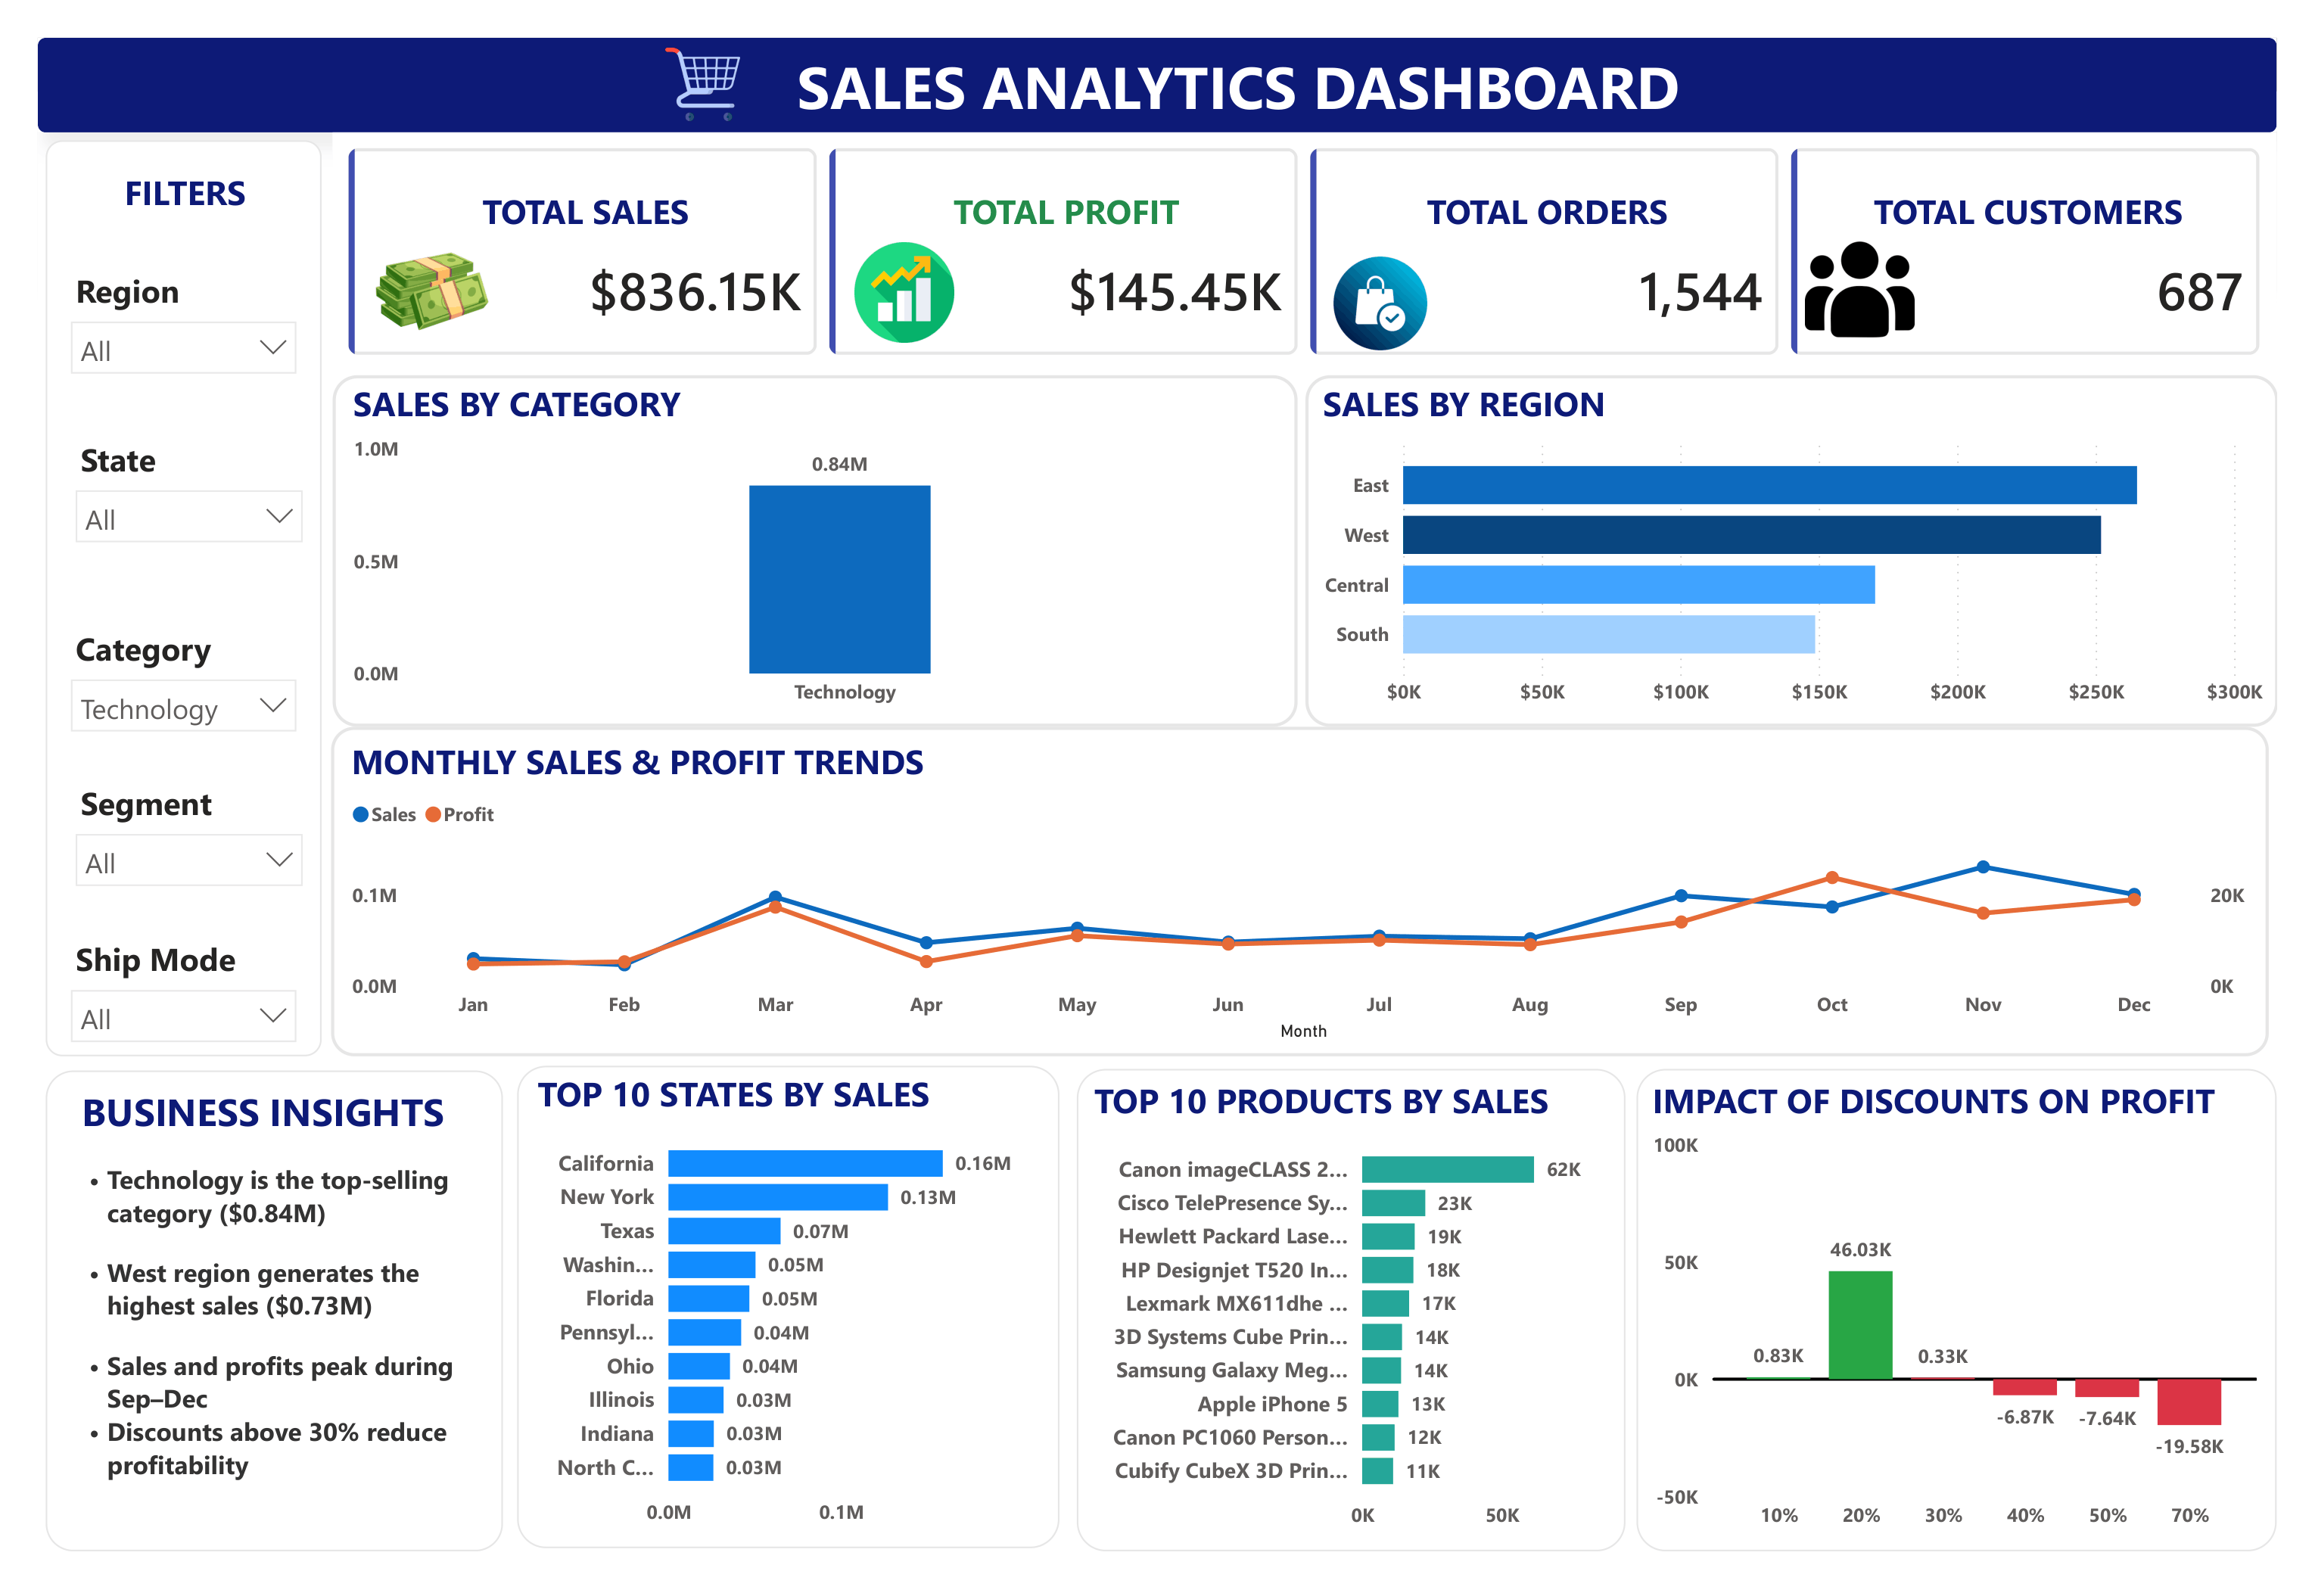

What the dashboard file says about the page in this screenshot:
{"tool":"powerbi","page":{"name":"Page 1","canvas":[1420,964],"ordinal":0},"visuals":[{"type":"shape","box":[0,0,1420.1,60.3],"z":0},{"type":"textbox","box":[447.7,0,627.1,60.3],"z":1000},{"type":"image","box":[395,6,52.8,46.7],"z":2000},{"type":"group","id":"g1","title":"Group 1","box":[186.9,60.3,1233.2,150.8],"z":3000},{"type":"shape","box":[803.5,214.1,616.6,223.1],"z":3000,"group":"g7"},{"type":"cardVisual","fields":{"Data":["sales_analytics superstore_staging.TOTAL SALES","sales_analytics superstore_staging.TOTAL PROFIT","sales_analytics superstore_staging.Orders Display","sales_analytics superstore_staging.TOTAL CUSTOMERS"]},"box":[186.9,60.3,1232.6,151.2],"z":4000,"group":"g1"},{"type":"shape","box":[186.9,214.1,612.1,223.1],"z":4000,"group":"g6"},{"type":"group","id":"g2","title":"Group 2","box":[1014.3,654,405.7,305.8],"z":4000},{"type":"image","box":[505.9,130.3,86.4,63.3],"z":5000,"group":"g1"},{"type":"group","id":"g3","title":"Group 3","box":[658.5,654,348.2,305.8],"z":5000},{"type":"image","box":[814.7,137.1,72,63.3],"z":6000,"group":"g1"},{"type":"clusteredColumnChart","title":"SALES BY CATEGORY","fields":{"Y":["Sum(sales_analytics superstore_staging.Sales)"],"Category":["sales_analytics superstore_staging.Category"]},"box":[194.4,217.1,595.5,215.6],"z":6000,"group":"g6"},{"type":"group","id":"g4","title":"Group 4","box":[304.3,652.5,343.6,305.8],"z":6000},{"type":"image","box":[1113,125.5,85.1,68.5],"z":7000,"group":"g1"},{"type":"clusteredBarChart","title":"SALES BY REGION","fields":{"Category":["sales_analytics superstore_staging.Region"],"Y":["Sum(sales_analytics superstore_staging.Sales)"]},"box":[809.5,217.1,606,215.6],"z":7000,"group":"g7"},{"type":"group","id":"g5","title":"Group 5","box":[186.2,437.5,1229.2,208.9],"z":7000},{"type":"image","box":[202.3,119.1,95.5,84],"z":8000,"group":"g1"},{"type":"group","id":"g6","title":"Group 6","box":[186.9,214.1,612.1,223.1],"z":8000},{"type":"shape","box":[186.2,437.5,1229.2,208.9],"z":8000,"group":"g5"},{"type":"group","id":"g7","title":"Group 7","box":[803.5,214.1,616.6,223.1],"z":9000},{"type":"lineChart","title":"MONTHLY SALES & PROFIT TRENDS","fields":{"Category":["sales_analytics superstore_staging.Month"],"Y":["sales_analytics superstore_staging.SALES VALUE"],"Y2":["sales_analytics superstore_staging.PROFIT VALUE"]},"box":[193.7,444.4,1211.1,196.8],"z":9000,"group":"g5"},{"type":"shape","box":[4.5,65.1,175.6,581.3],"z":10000},{"type":"shape","box":[304.3,652.5,343.6,305.8],"z":10000,"group":"g4"},{"type":"shape","box":[658.5,654,348.2,305.8],"z":11000,"group":"g3"},{"type":"shape","box":[4.5,655.5,290.7,304.3],"z":11000},{"type":"textbox","box":[14.4,78.4,158.5,51.2],"z":12000},{"type":"shape","box":[1014.3,654,405.7,305.8],"z":12000,"group":"g2"},{"type":"slicer","fields":{"Values":["sales_analytics superstore_staging.Region"]},"box":[11.2,140.8,163.3,76.8],"z":13000},{"type":"clusteredBarChart","title":"TOP 10 STATES BY SALES","fields":{"Category":["sales_analytics superstore_staging.State"],"Y":["Sum(sales_analytics superstore_staging.Sales)"]},"box":[312,655.5,325.9,298.2],"z":13000,"group":"g4"},{"type":"clusteredBarChart","title":"TOP 10 PRODUCTS BY SALES","fields":{"Y":["Sum(sales_analytics superstore_staging.Sales)"],"Category":["sales_analytics superstore_staging.Product_Name"]},"box":[665,658.5,330,296.7],"z":13002,"group":"g3"},{"type":"clusteredColumnChart","title":"IMPACT OF DISCOUNTS ON PROFIT","fields":{"Y":["Sum(sales_analytics superstore_staging.Profit)"],"Category":["sales_analytics superstore_staging.Discount Label"]},"box":[1018.8,658.5,393,296.7],"z":13003,"group":"g2"},{"type":"slicer","fields":{"Values":["sales_analytics superstore_staging.State"]},"box":[14.4,248.1,163.3,76.8],"z":14000},{"type":"slicer","fields":{"Values":["sales_analytics superstore_staging.Category"]},"box":[11.2,368.1,163.3,76.8],"z":15000},{"type":"slicer","fields":{"Values":["sales_analytics superstore_staging.Segment"]},"box":[14.4,465.8,163.3,76.8],"z":16000},{"type":"slicer","fields":{"Values":["sales_analytics superstore_staging.Ship_Mode"]},"box":[11.2,565,163.3,76.8],"z":17000},{"type":"textbox","box":[22.7,658.5,254.3,50],"z":18000},{"type":"textbox","box":[15.1,708.5,272.5,245.2],"z":19000}]}

Visuals, with their boxes on the page's 1420x964 design canvas (x1, y1, x2, y2). These are canvas units, not pixel positions in the 2315x1596 screenshot, which may show the page scaled, cropped or inside an application window:
shape: 0,0,1420,60
textbox: 448,0,1075,60
image: 395,6,448,53
"Group 1" group: 187,60,1420,211
shape: 804,214,1420,437
cardVisual - sales_analytics superstore_staging.TOTAL SALES x sales_analytics superstore_staging.TOTAL PROFIT: 187,60,1420,212
shape: 187,214,799,437
"Group 2" group: 1014,654,1420,960
image: 506,130,592,194
"Group 3" group: 658,654,1007,960
image: 815,137,887,200
"SALES BY CATEGORY" clusteredColumnChart: 194,217,790,433
"Group 4" group: 304,652,648,958
image: 1113,126,1198,194
"SALES BY REGION" clusteredBarChart: 810,217,1416,433
"Group 5" group: 186,438,1415,646
image: 202,119,298,203
"Group 6" group: 187,214,799,437
shape: 186,438,1415,646
"Group 7" group: 804,214,1420,437
"MONTHLY SALES & PROFIT TRENDS" lineChart: 194,444,1405,641
shape: 4,65,180,646
shape: 304,652,648,958
shape: 658,654,1007,960
shape: 4,656,295,960
textbox: 14,78,173,130
shape: 1014,654,1420,960
slicer - sales_analytics superstore_staging.Region: 11,141,174,218
"TOP 10 STATES BY SALES" clusteredBarChart: 312,656,638,954
"TOP 10 PRODUCTS BY SALES" clusteredBarChart: 665,658,995,955
"IMPACT OF DISCOUNTS ON PROFIT" clusteredColumnChart: 1019,658,1412,955
slicer - sales_analytics superstore_staging.State: 14,248,178,325
slicer - sales_analytics superstore_staging.Category: 11,368,174,445
slicer - sales_analytics superstore_staging.Segment: 14,466,178,543
slicer - sales_analytics superstore_staging.Ship_Mode: 11,565,174,642
textbox: 23,658,277,708
textbox: 15,708,288,954
